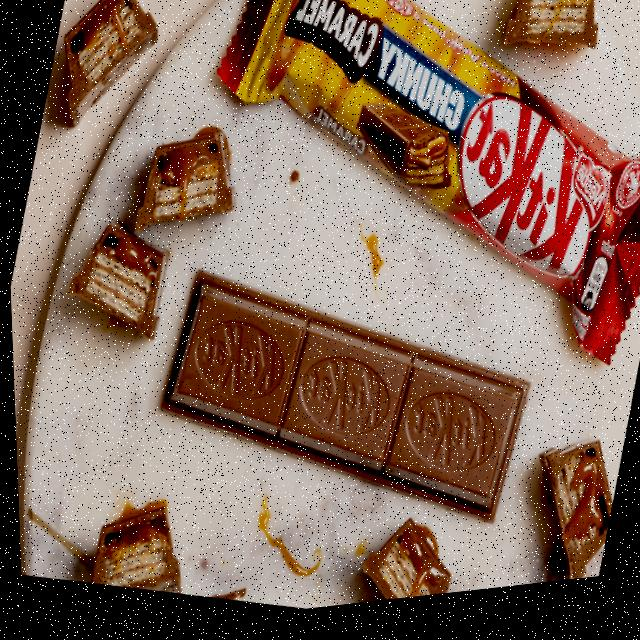kitkat: (163, 0, 640, 432)
